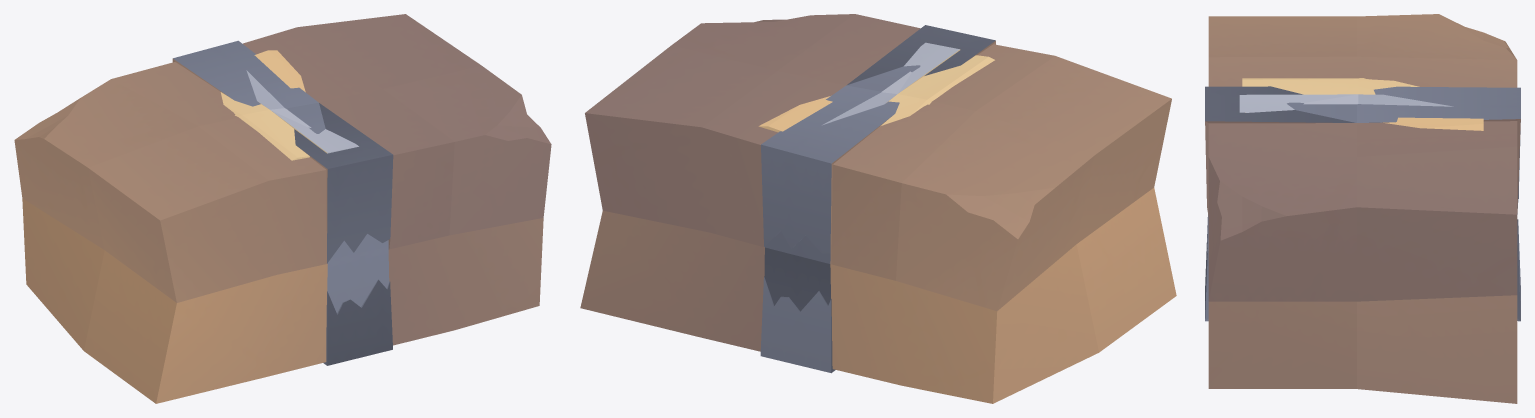
3 renders of one model, left to right at view 1: azimuth 30°, elevation 25°; view 2: azimuth 150°, elevation 25°; view 3: azimuth 270°, elevation 25°, orthographic. The views are drawn at different scales.
Visible parts, largest first — view 1: Box_2, Box_1; view 2: Box_2, Box_1; view 3: Box_2, Box_1.
Boxes of the visible parts, <box> form: Box_2: <box>14,14,551,403</box>; Box_1: <box>220,50,358,160</box>; Box_2: <box>580,14,1176,403</box>; Box_1: <box>758,42,994,132</box>; Box_2: <box>1205,14,1520,403</box>; Box_1: <box>1239,78,1483,130</box>.
Bounding box in the file's own units: 7.19 × 3.38 × 4.74.
Materials: 3 (3 with a texture image).
